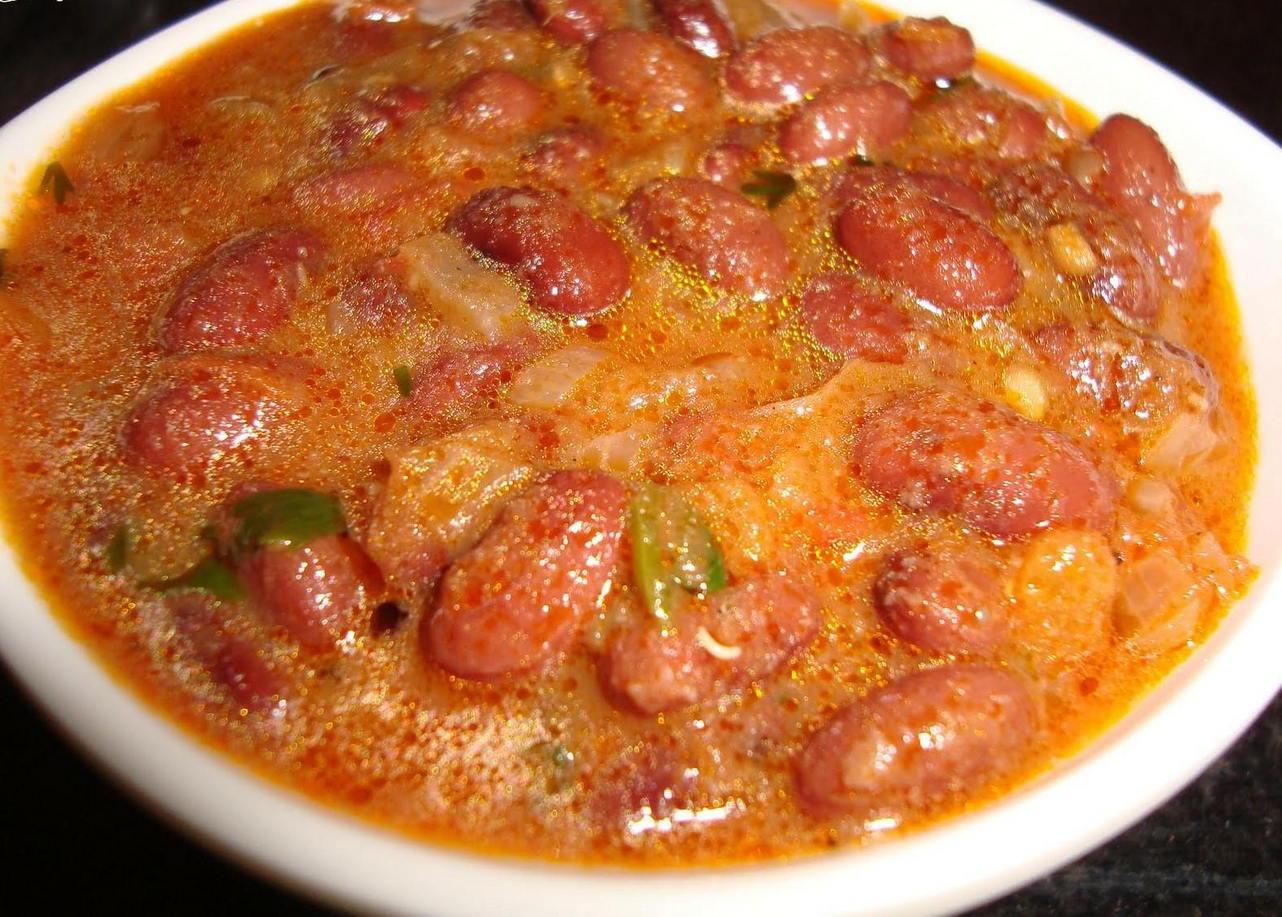RajmaCurry: (0, 0, 1282, 861)
